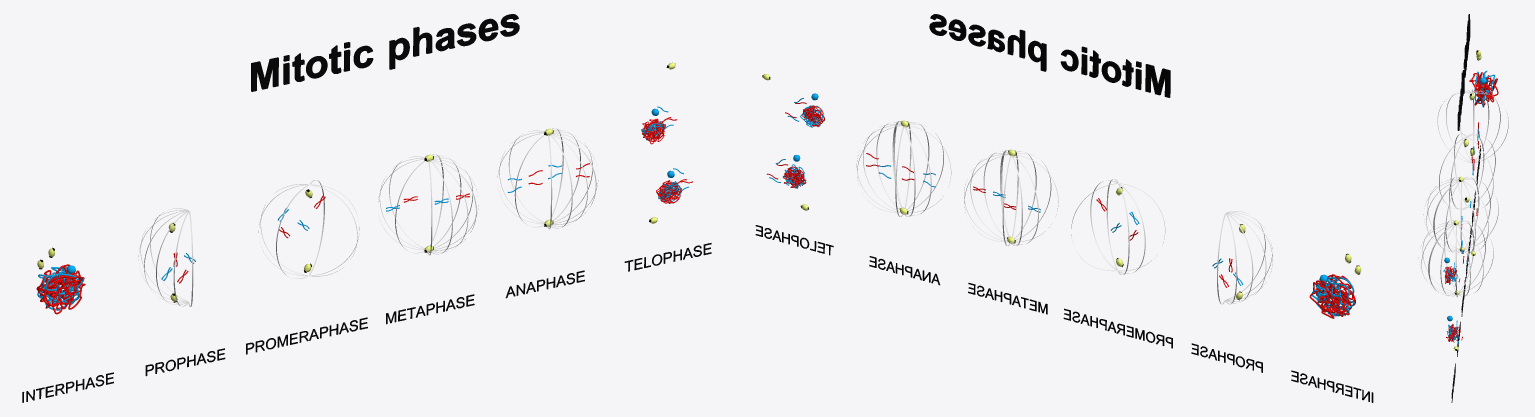
File: Mitosis_stages._cell_division.gltf
3 renders of one model, left to right at view 1: azimuth 30°, elevation 25°; view 2: azimuth 150°, elevation 25°; view 3: azimuth 270°, elevation 25°, orthographic. The views are drawn at different scales.
Parts seen in each view (by area): view 1: Object049_black_0, Object048_black_0, Object013_white_0, Line002, Object029_white_0, Object042_white_0, Object045_white_0, Object040_white_0, Line001; view 2: Object049_black_0, Object048_black_0, Object013_white_0, Object029_white_0, Object042_white_0, Object040_white_0, Object045_white_0, Line003, Line001; view 3: Object013_white_0, Object049_black_0, Object029_white_0, Object045_white_0, Object040_white_0, Object042_white_0, Object048_black_0, Object044_white_0, Object016_white_0, Object031_white_0, Line003, Line002 (+2 smaller).
Part boxes in pixels (x1=…): Object049_black_0: x1=251, y1=14, x2=519, y2=91; Object048_black_0: x1=22, y1=243, x2=711, y2=402; Object013_white_0: x1=138, y1=208, x2=193, y2=306; Line002: x1=37, y1=264, x2=82, y2=314; Object029_white_0: x1=378, y1=156, x2=432, y2=255; Object042_white_0: x1=497, y1=130, x2=552, y2=229; Object045_white_0: x1=549, y1=128, x2=596, y2=228; Object040_white_0: x1=429, y1=154, x2=476, y2=254; Line001: x1=37, y1=266, x2=84, y2=310; Object049_black_0: x1=929, y1=14, x2=1170, y2=97; Object048_black_0: x1=755, y1=225, x2=1373, y2=402; Object013_white_0: x1=1217, y1=211, x2=1272, y2=304; Object029_white_0: x1=1002, y1=153, x2=1058, y2=245; Object042_white_0: x1=895, y1=123, x2=951, y2=216; Object040_white_0: x1=964, y1=150, x2=1036, y2=242; Object045_white_0: x1=857, y1=121, x2=929, y2=212; Line003: x1=1309, y1=275, x2=1355, y2=318; Line001: x1=1311, y1=277, x2=1354, y2=316; Object013_white_0: x1=1437, y1=89, x2=1508, y2=163; Object049_black_0: x1=1457, y1=14, x2=1470, y2=130; Object029_white_0: x1=1427, y1=177, x2=1498, y2=249; Object045_white_0: x1=1418, y1=223, x2=1483, y2=297; Object040_white_0: x1=1423, y1=180, x2=1488, y2=253; Object042_white_0: x1=1422, y1=220, x2=1493, y2=292; Object048_black_0: x1=1451, y1=145, x2=1480, y2=402; Object044_white_0: x1=1428, y1=224, x2=1470, y2=296; Object016_white_0: x1=1454, y1=133, x2=1495, y2=206; Object031_white_0: x1=1433, y1=181, x2=1475, y2=253; Line003: x1=1469, y1=73, x2=1498, y2=106; Line002: x1=1474, y1=72, x2=1497, y2=105.
Size of the model in its own units: 7.92 by 3.27 by 1.44.
